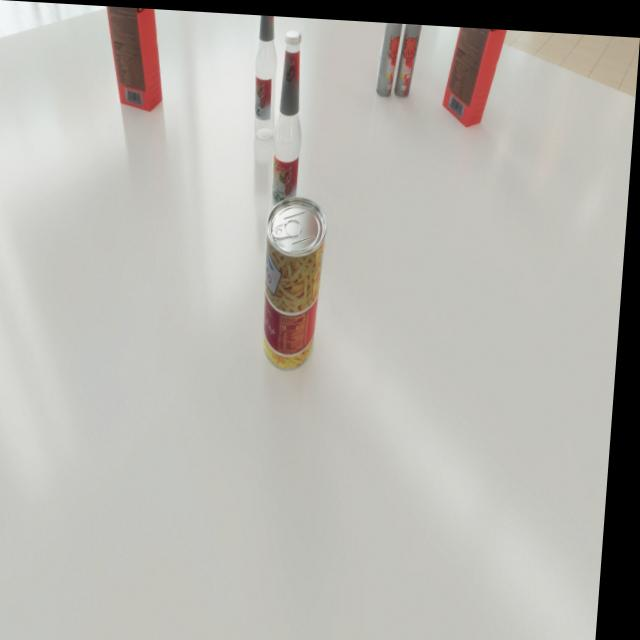Bottle: (270, 26, 311, 229), (251, 12, 283, 137)
HelloPanda: (93, 5, 169, 110), (442, 21, 514, 123)
Potato_sticks: (261, 192, 332, 368)
Rita_zero_sugar: (395, 19, 422, 93), (376, 18, 402, 93)
Salt: (379, 18, 398, 58)
